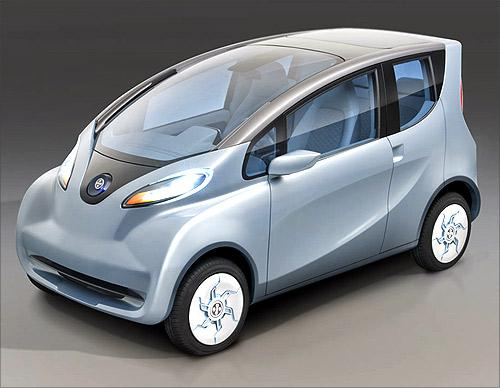small: (15, 25, 481, 356)
